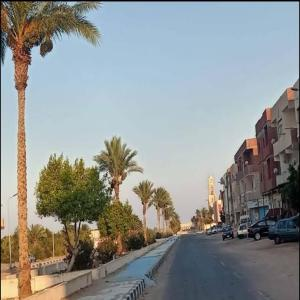palm tree: (0, 1, 102, 298), (132, 178, 156, 244), (152, 186, 171, 232)
